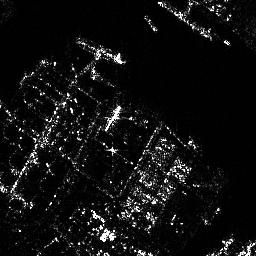ship: (75, 34, 127, 67)
